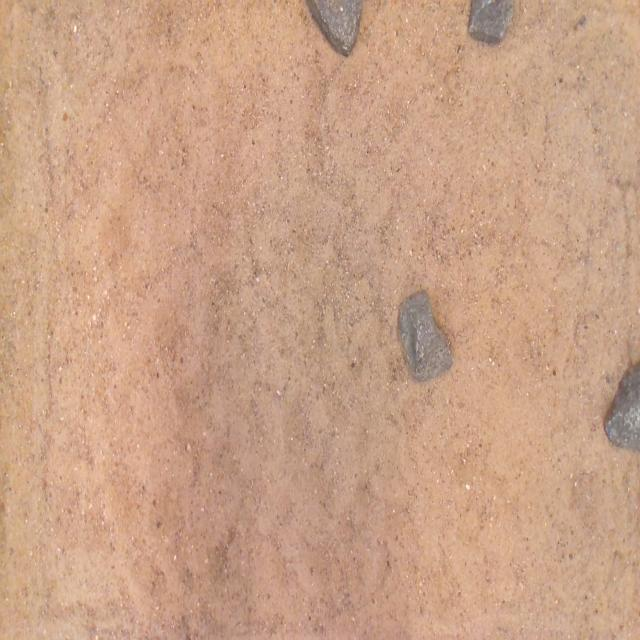rock: (398, 292, 452, 380), (605, 361, 640, 451), (307, 0, 362, 56), (469, 0, 514, 41)
